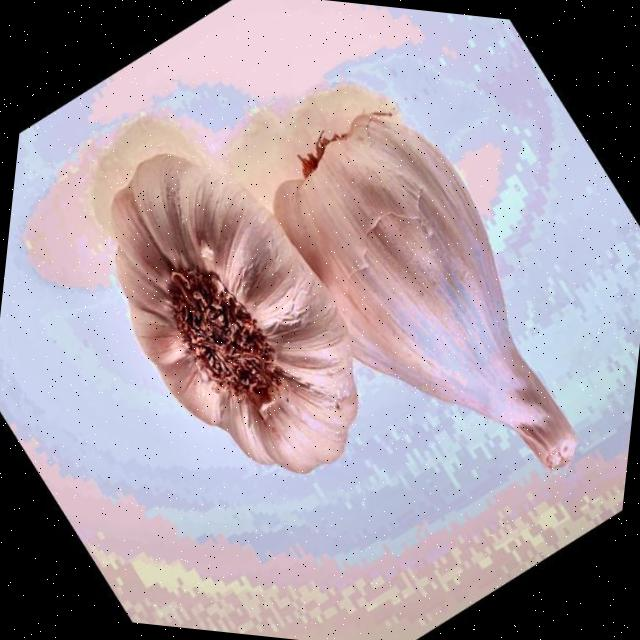garlic: (273, 114, 574, 465), (111, 154, 356, 471)
